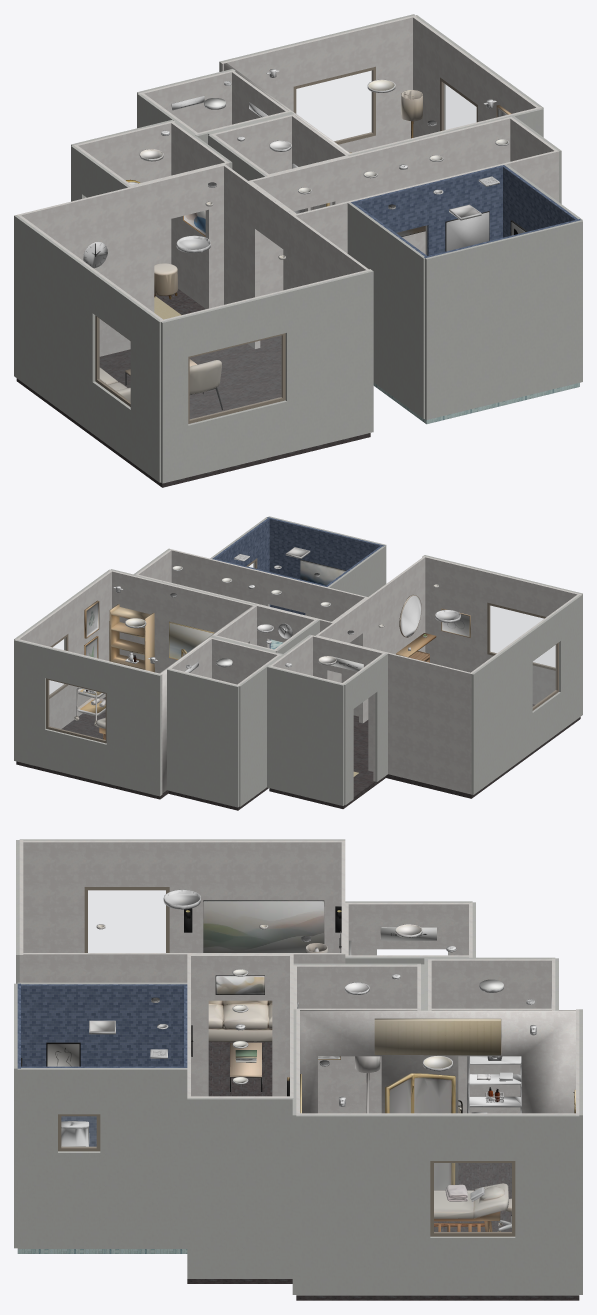
File: scene_named.glb
3 views of the same model, one above another, from view 1: azimuth 30°, elevation 25°; view 2: azimuth 150°, elevation 25°; view 3: azimuth 270°, elevation 25° (orthographic). The views are drawn at different scales.
Visible parts, largest first — view 1: south_wall_exterior_waiting_area/south_wall_exterior_waiting, south_wall_exterior_bathroom/south_wall_exterior_bathroom/ge, west_wall_exterior_waiting_area/west_wall_exterior_waiting_a, north_wall_waiting_area/north_wall_waiting_area/geometry_0, north_wall_corridor/north_wall_corridor/geometry_0, north_wall_treatment_room/north_wall_treatment_room/geometry, west_wall_exterior_bathroom/west_wall_exterior_bathroom/geom, east_wall_waiting_area/east_wall_waiting_area/geometry_0, floor_waiting_area, north_wall_bathroom/north_wall_bathroom/geometry_0, east_wall_treatment_room/east_wall_treatment_room/geometry_0, window_1_waiting_area/window_1_waiting_area/glass (+24 smaller); view 2: north_wall_exterior_treatment_room/north_wall_exterior_treat, west_wall_exterior_waiting_area/west_wall_exterior_waiting_a, north_wall_waiting_area/north_wall_waiting_area/geometry_0, north_wall_exterior_entry_vestibule/north_wall_exterior_entr, north_wall_exterior_linen_storage/north_wall_exterior_linen_, south_wall_waiting_area/south_wall_waiting_area/geometry_0, south_wall_corridor/south_wall_corridor/geometry_0, south_wall_treatment_room/south_wall_treatment_room/geometry, east_wall_waiting_area/east_wall_waiting_area/geometry_0, east_wall_treatment_room/east_wall_treatment_room/geometry_0, south_wall_bathroom/south_wall_bathroom/geometry_0, west_wall_exterior_entry_vestibule/west_wall_exterior_entry_ (+30 smaller); view 3: east_wall_exterior_treatment_room/east_wall_exterior_treatme, east_wall_exterior_bathroom/east_wall_exterior_bathroom/geom, west_wall_waiting_area/west_wall_waiting_area/geometry_0, east_wall_exterior_corridor/east_wall_exterior_corridor/geom, west_wall_treatment_room/west_wall_treatment_room/geometry_0, west_wall_bathroom/west_wall_bathroom/geometry_0, west_wall_treatment_vestibule/west_wall_treatment_vestibule/, west_wall_linen_storage/west_wall_linen_storage/geometry_0, west_wall_corridor/west_wall_corridor/geometry_0, canvas_print_0, east_wall_waiting_area/east_wall_waiting_area/geometry_0, window_4_treatment_room/window_4_treatment_room/glass (+27 smaller).
Boxes of the visible parts, x1,y1,x2,y2 form: south_wall_exterior_waiting_area/south_wall_exterior_waiting: (161,270,373,483); south_wall_exterior_bathroom/south_wall_exterior_bathroom/ge: (425,220,582,419); west_wall_exterior_waiting_area/west_wall_exterior_waiting_a: (14,215,160,482); north_wall_waiting_area/north_wall_waiting_area/geometry_0: (17,164,226,356); north_wall_corridor/north_wall_corridor/geometry_0: (249,116,512,295); north_wall_treatment_room/north_wall_treatment_room/geometry: (221,15,416,152); west_wall_exterior_bathroom/west_wall_exterior_bathroom/geom: (347,202,424,418); east_wall_waiting_area/east_wall_waiting_area/geometry_0: (224,165,368,348); floor_waiting_area: (16,343,370,487); north_wall_bathroom/north_wall_bathroom/geometry_0: (351,165,504,255); east_wall_treatment_room/east_wall_treatment_room/geometry_0: (413,17,538,137); window_1_waiting_area/window_1_waiting_area/glass: (190,336,281,419); north_wall_exterior_treatment_room/north_wall_exterior_treat: (14,639,161,796); west_wall_exterior_waiting_area/west_wall_exterior_waiting_a: (471,594,582,794); north_wall_waiting_area/north_wall_waiting_area/geometry_0: (315,635,472,794); north_wall_exterior_entry_vestibule/north_wall_exterior_entr: (267,666,344,805); north_wall_exterior_linen_storage/north_wall_exterior_linen_: (166,668,239,807); south_wall_waiting_area/south_wall_waiting_area/geometry_0: (422,555,581,704); south_wall_corridor/south_wall_corridor/geometry_0: (170,549,367,716); south_wall_treatment_room/south_wall_treatment_room/geometry: (109,570,255,673); east_wall_waiting_area/east_wall_waiting_area/geometry_0: (317,557,425,723); east_wall_treatment_room/east_wall_treatment_room/geometry_0: (17,571,111,728); south_wall_bathroom/south_wall_bathroom/geometry_0: (267,517,384,615); west_wall_exterior_entry_vestibule/west_wall_exterior_entry_: (343,653,387,805); east_wall_exterior_treatment_room/east_wall_exterior_treatme: (296,1114,579,1295); east_wall_exterior_bathroom/east_wall_exterior_bathroom/geom: (17,1068,187,1248); west_wall_waiting_area/west_wall_waiting_area/geometry_0: (23,840,341,952); east_wall_exterior_corridor/east_wall_exterior_corridor/geom: (187,1098,292,1278); west_wall_treatment_room/west_wall_treatment_room/geometry_0: (300,1010,575,1184); west_wall_bathroom/west_wall_bathroom/geometry_0: (21,984,183,1146); west_wall_treatment_vestibule/west_wall_treatment_vestibule/: (293,965,420,1113); west_wall_linen_storage/west_wall_linen_storage/geometry_0: (431,959,555,1113); west_wall_corridor/west_wall_corridor/geometry_0: (191,954,289,1096); canvas_print_0: (203,900,324,952); east_wall_waiting_area/east_wall_waiting_area/geometry_0: (23,953,341,982); window_4_treatment_room/window_4_treatment_room/glass: (434,1163,511,1231).
Bounding box in the file's own units: 9.26 × 2.9 × 8.04.
122 materials, 114 textured.
